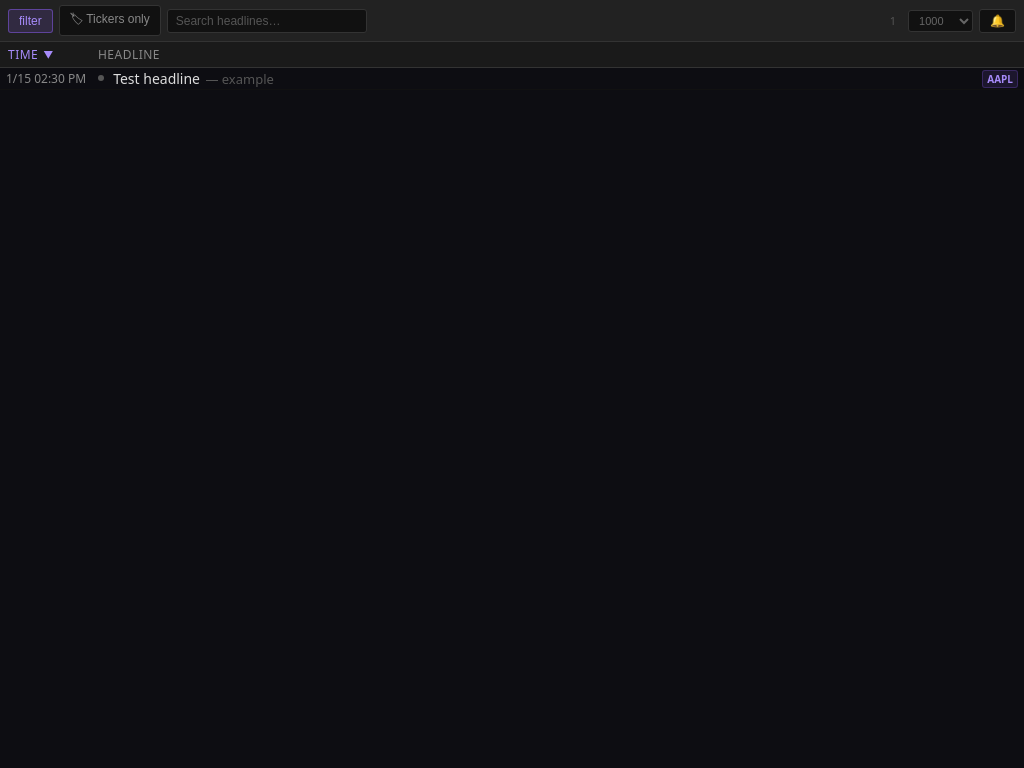
it: modal content branches › with article summary expect summary shown in modal
This screenshot has width=1024, height=768.
Click the element showing "1/15 02:30 PM Test headline — example AAPL" at point(512, 79), box [0,68,1023,90]
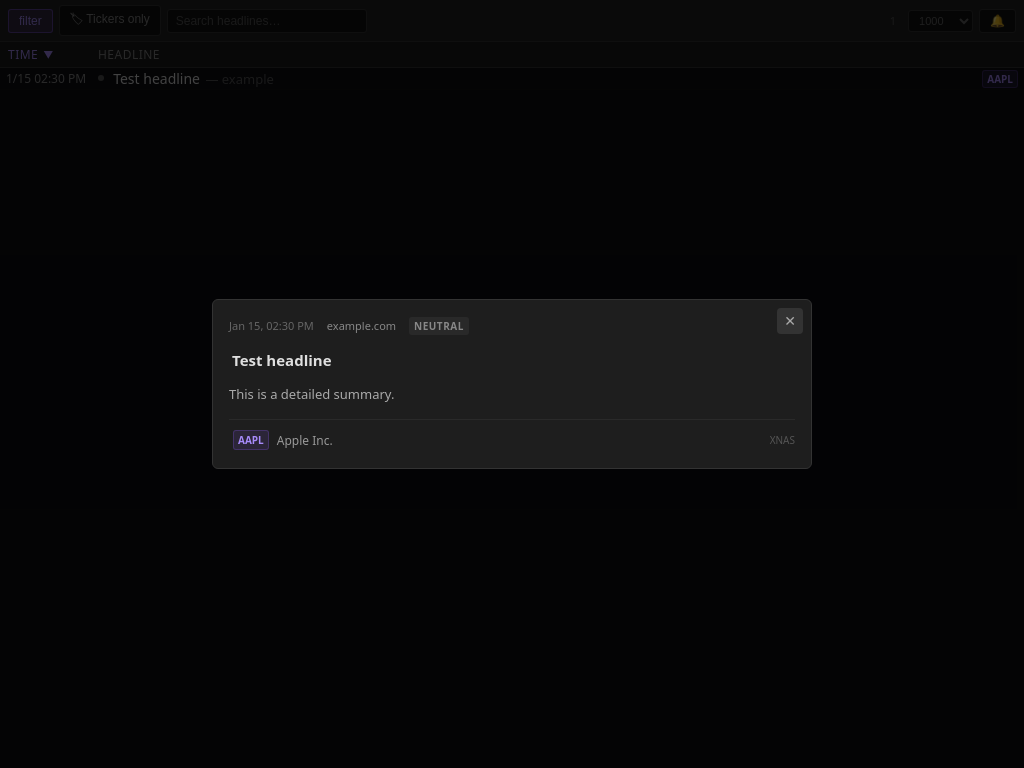
Check: the text with class "modal-summary" reads "This is a detailed summary.", box [229,385,394,403]
